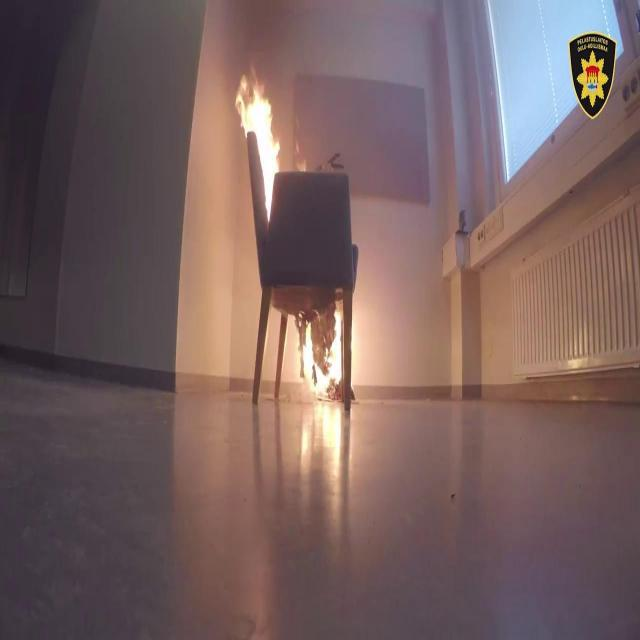fire: (232, 72, 292, 219), (288, 301, 342, 399)
